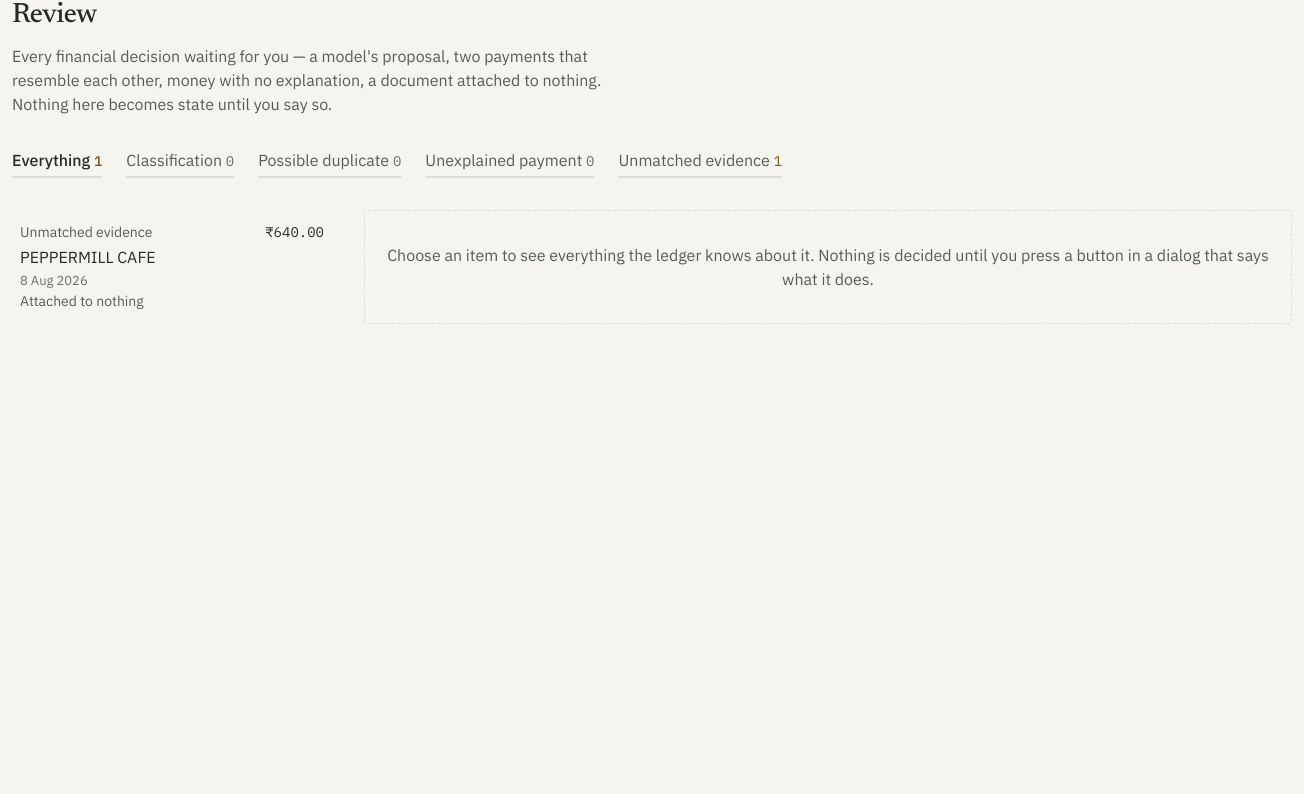
Test: the review queue › shows an unmatched document's reading and its candidates, and links nothing on its own
The width and height of the screenshot is (1304, 794).
Expected: the button "Unmatched evidence 1" is shown, [618,148,782,178]
Click the button "PEPPERMILL CAFE" at {"x": 86, "y": 232}, box [12,210,332,324]
(page scrolled)
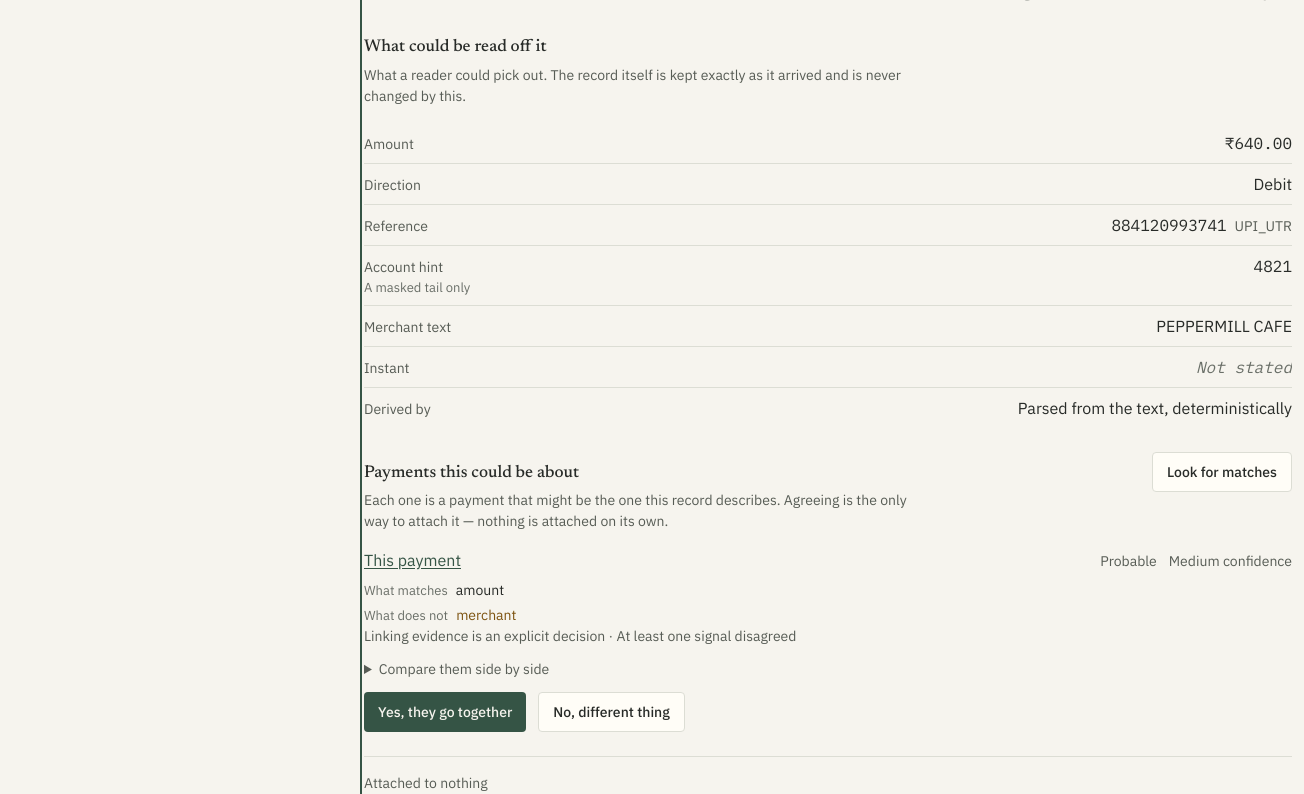
Expected: the heading "What could be read off it" is shown, [364,39,547,56]
Expected: the text "Parsed from the text, deterministically" is shown, [1018,396,1292,420]
Expected: the text "What matches" is shown, [364,581,448,600]
Click the heading "Compare them side by side" at {"x": 464, "y": 669}, box [379,660,549,678]
(page scrolled)
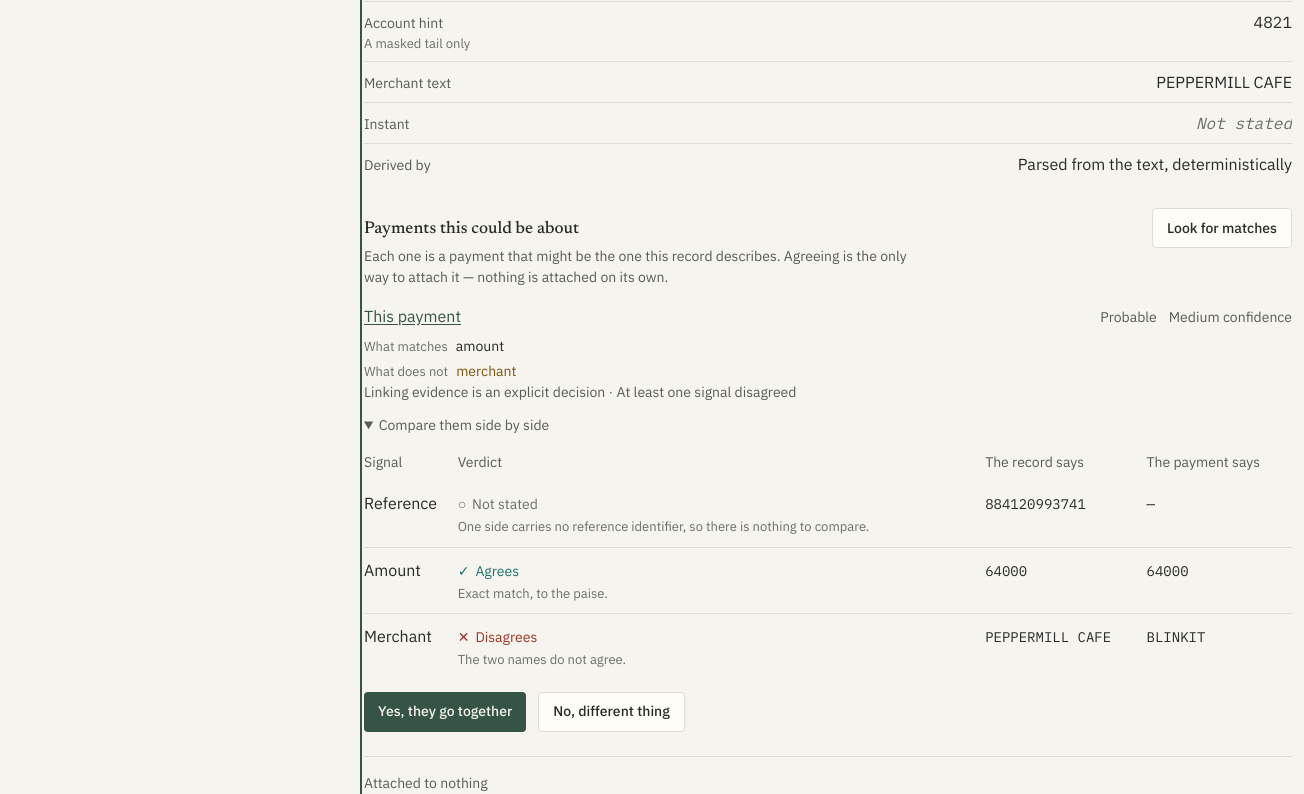
Expected: the text "Agrees" is shown, [475,562,519,580]
Expected: the text "Disagrees" is shown, [475,628,537,646]
